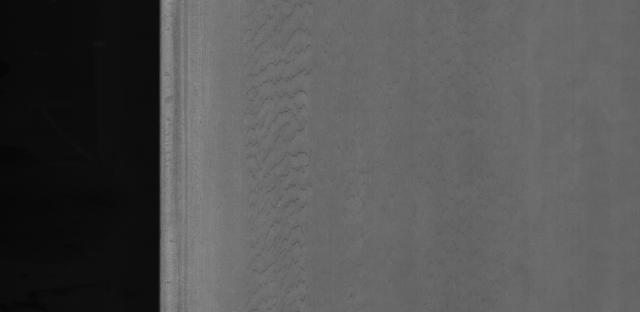silk_spot: (232, 5, 316, 309)
